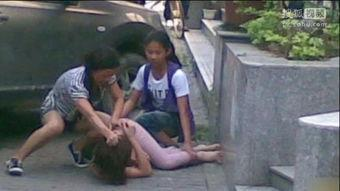Fall-Detected: (86, 115, 224, 176)
